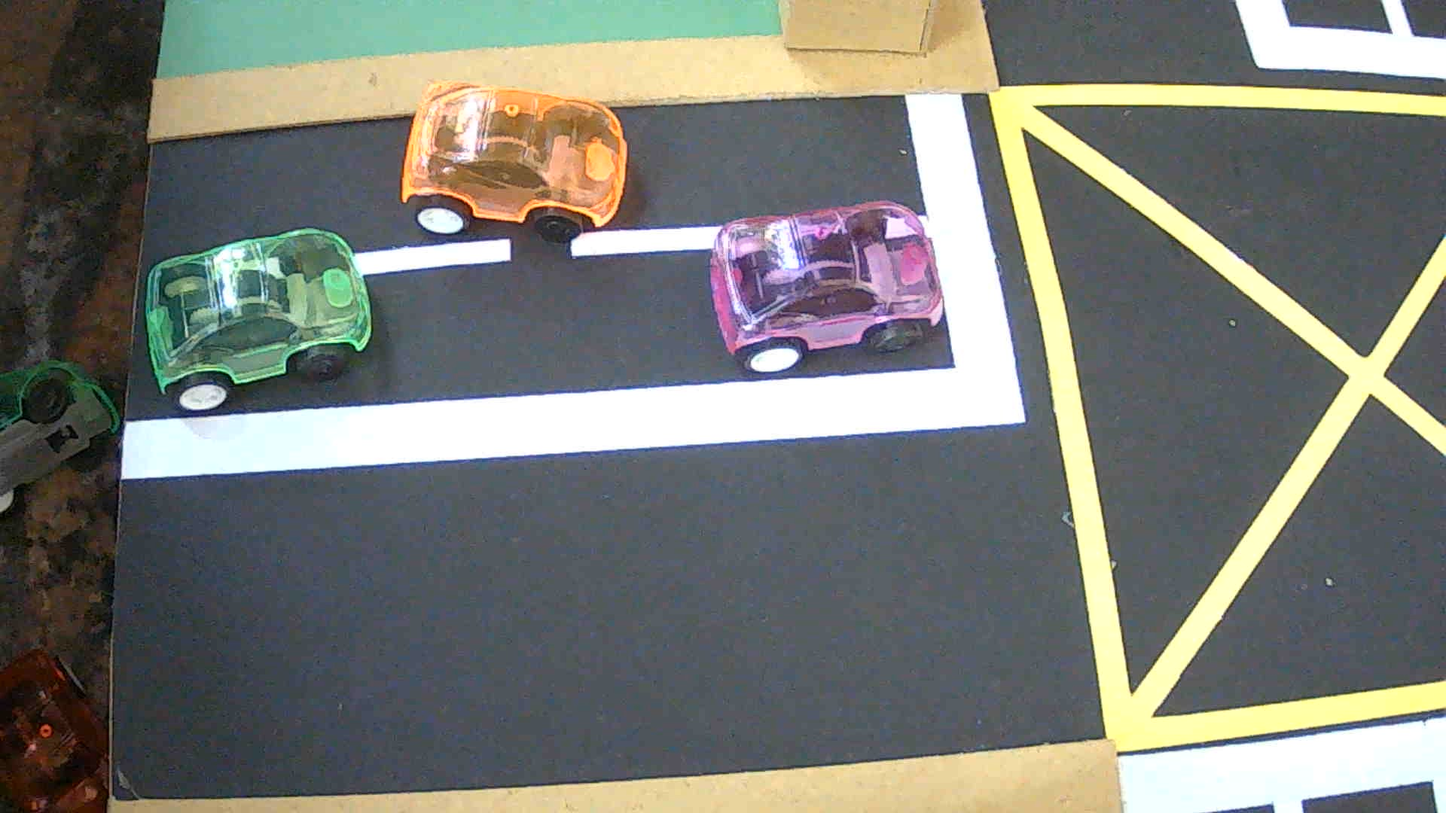Mobil hijau: (142, 227, 371, 412)
Mobil orange: (400, 82, 628, 243)
Mobil ungu: (709, 202, 942, 374)
